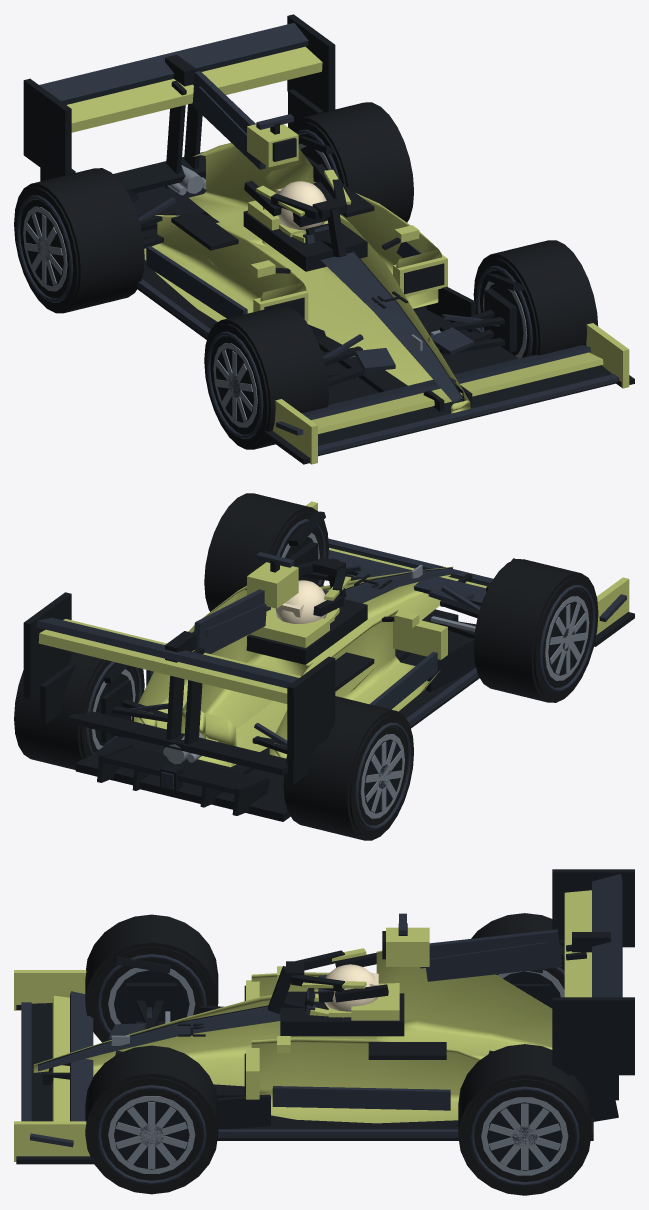
The model's file is kestrel-14.glb.
3 renders of one model, top to bottom at view 1: azimuth 30°, elevation 25°; view 2: azimuth 150°, elevation 25°; view 3: azimuth 270°, elevation 25°, orthographic.
Visible parts, largest first — view 1: formula-14, wheel (×4); view 2: formula-14, wheel (×4); view 3: formula-14, wheel (×4).
Part boxes in pixels (box(x1,y1,x2,y2)): formula-14: box(23, 14, 634, 464); wheel (×4): box(14, 102, 598, 449); formula-14: box(23, 501, 634, 821); wheel (×4): box(14, 493, 598, 840); formula-14: box(14, 869, 634, 1164); wheel (×4): box(85, 913, 591, 1195).
Size of the model in its own units: 3.41 by 1.85 by 5.41.
